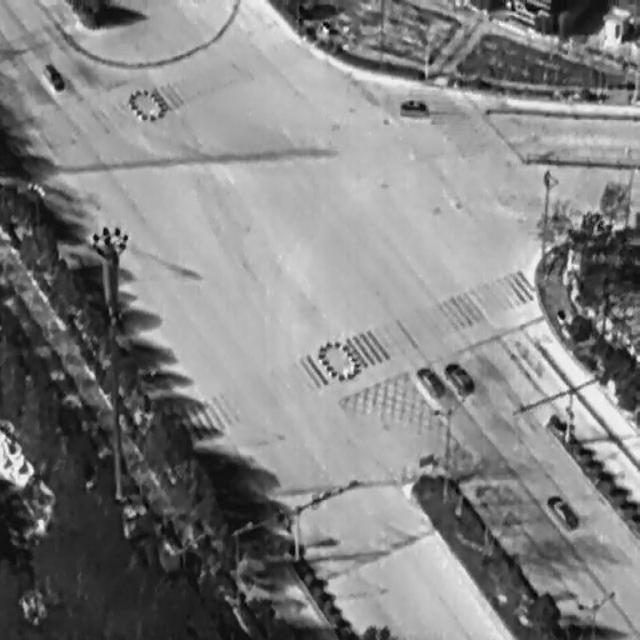Car: (543, 485, 581, 536), (440, 355, 476, 403), (415, 358, 446, 402), (40, 58, 66, 92), (398, 96, 430, 118)
